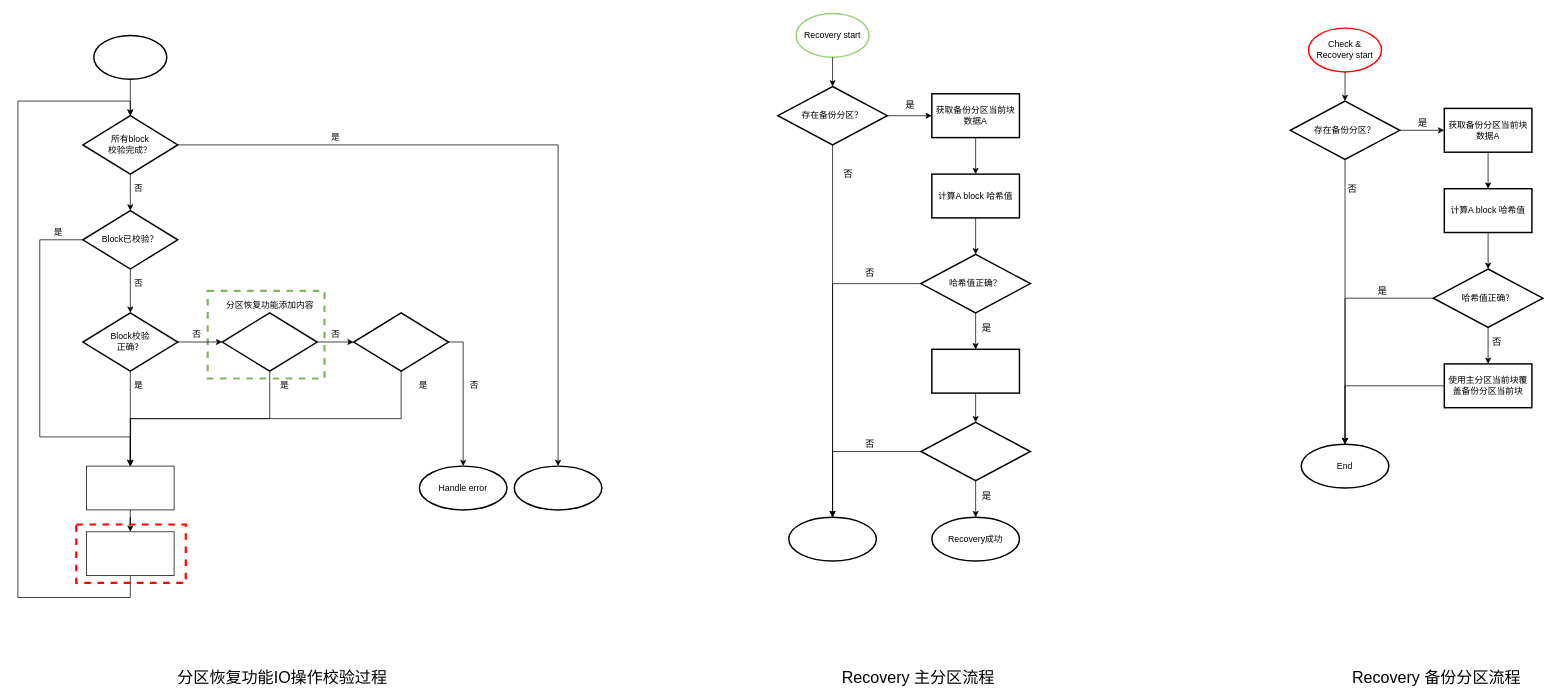
The diagram is 1556 pixels wide and 699 high, and some of its shapes have lost their labels. Here are the shapes that lost their labels. From the top down, the centre of each, then its label:
(x=130, y=57): Verity verify io start
(x=269, y=342): Recovery成功？
(x=401, y=342): FEC 正确？
(x=975, y=370): 使用A block data 覆盖分区对应block内容与DDR 对应page内容
(x=975, y=451): 覆写正常？
(x=130, y=487): 检验成功，当前block标记为已校验
(x=557, y=487): Verify ok
(x=130, y=553): 主分区校验正常，校验并恢复备份分区
(x=832, y=538): Recovery 失败
